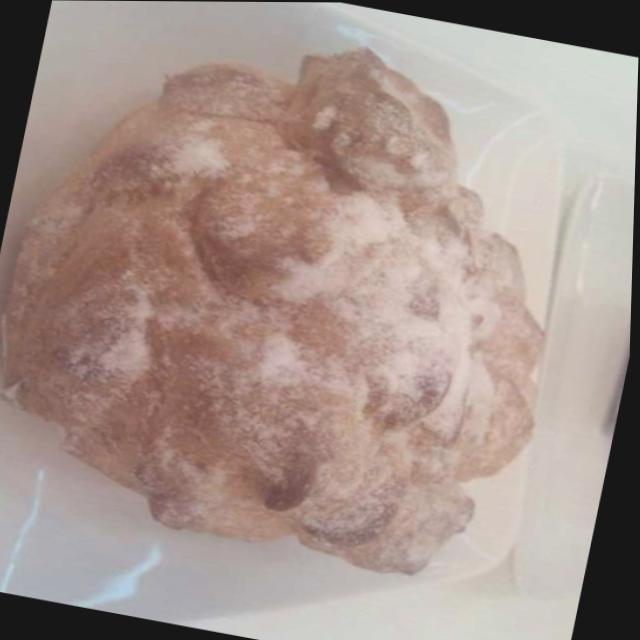炸货点心: (0, 0, 627, 639)
蛋糕甜品: (0, 0, 627, 639)
